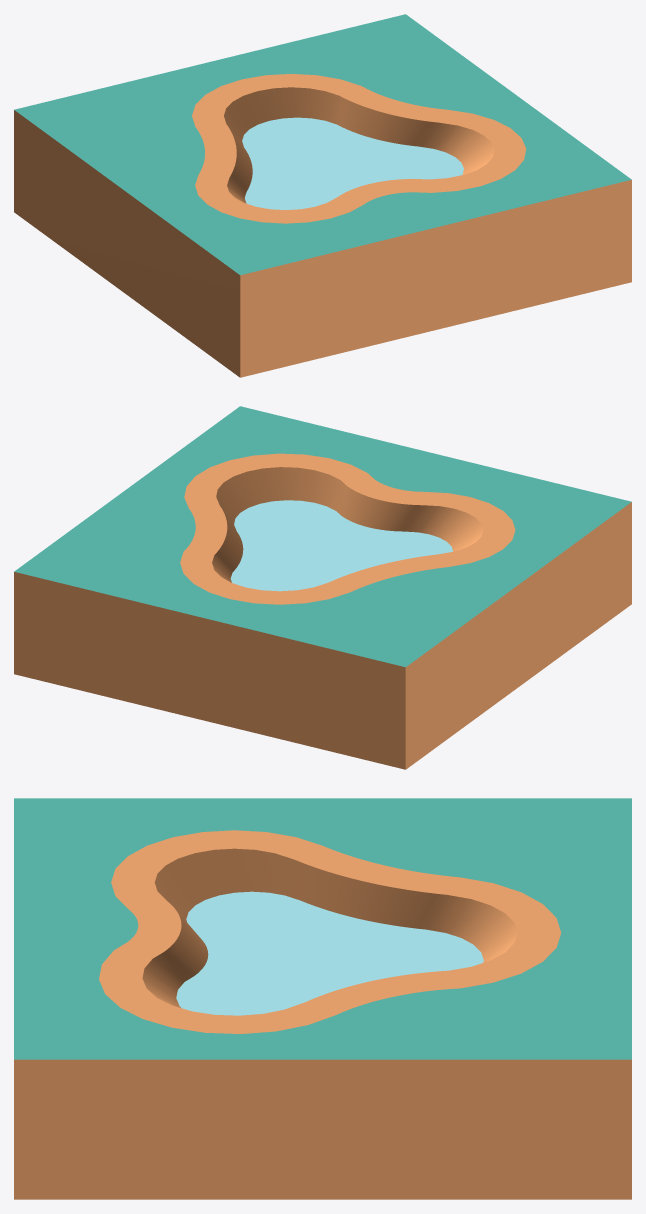
The model's file is ground_pool.obj.
3 views of the same model, one above another, from view 1: azimuth 30°, elevation 25°; view 2: azimuth 150°, elevation 25°; view 3: azimuth 270°, elevation 25° (orthographic). The views are drawn at different scales.
Parts seen in each view (by area): view 1: ground_dirtRiverTile.001; view 2: ground_dirtRiverTile.001; view 3: ground_dirtRiverTile.001.
Boxes of the visible parts, box(x1,y1,x2,y2) form: ground_dirtRiverTile.001: box(14, 14, 631, 377); ground_dirtRiverTile.001: box(14, 406, 631, 769); ground_dirtRiverTile.001: box(14, 798, 631, 1199).
Bounding box in the file's own units: 10 × 2.5 × 10.
